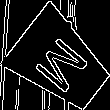M_SE: (28, 29, 94, 96)
